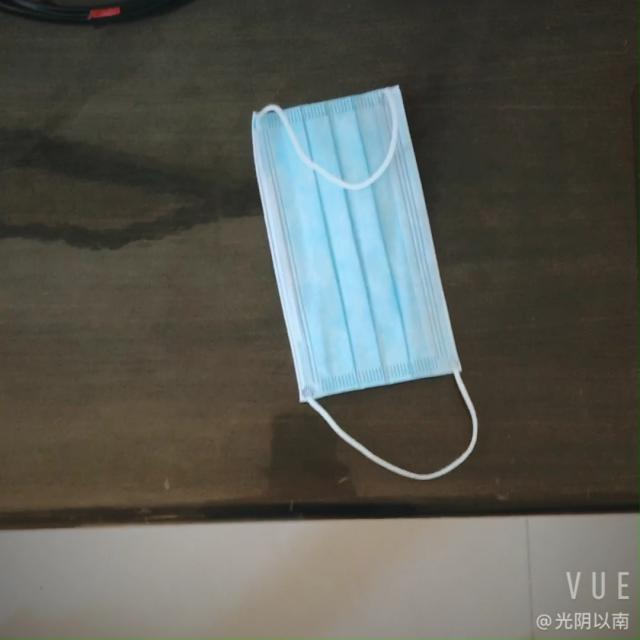non-organic waste: (258, 68, 477, 422)
